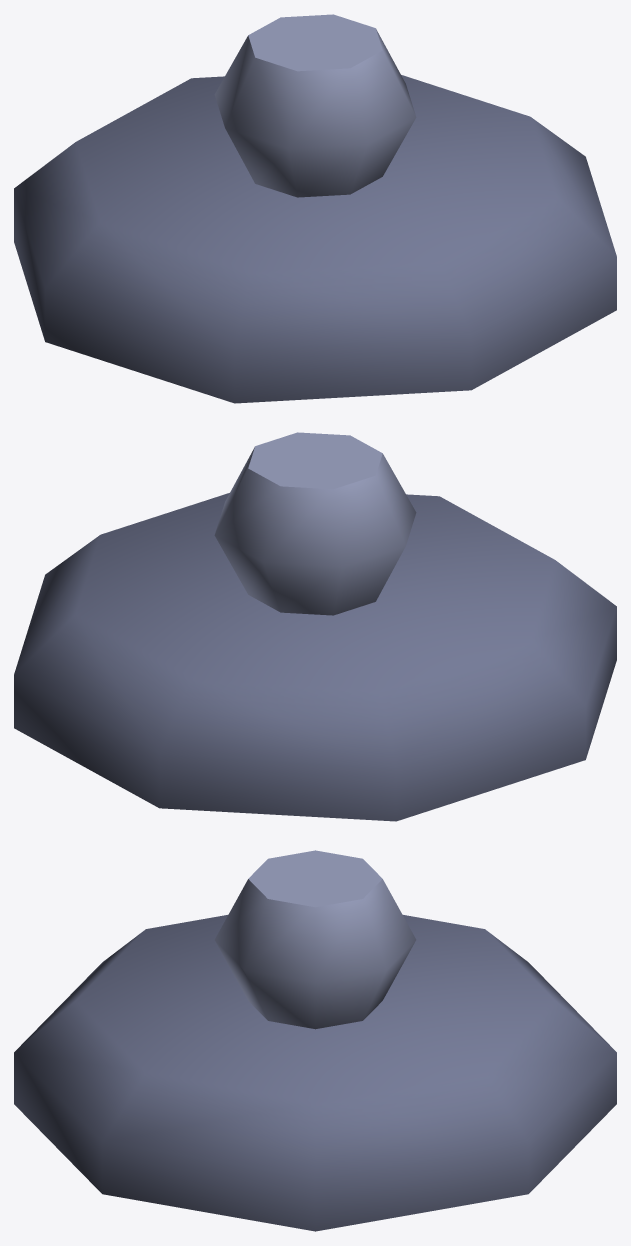
The model's file is lid.001_lev2.glb.
3 renders of one model, top to bottom at view 1: azimuth 30°, elevation 25°; view 2: azimuth 150°, elevation 25°; view 3: azimuth 270°, elevation 25°, orthographic. The views are drawn at different scales.
Visible parts, largest first — view 1: lid.001_lev2; view 2: lid.001_lev2; view 3: lid.001_lev2.
Boxes of the visible parts, x1,y1,x2,y2 form: lid.001_lev2: [14, 14, 616, 403]; lid.001_lev2: [14, 432, 616, 821]; lid.001_lev2: [14, 850, 616, 1231].
Bounding box in the file's own units: 0.2644 × 0.109 × 0.2644.
1 material, 1 textured.
